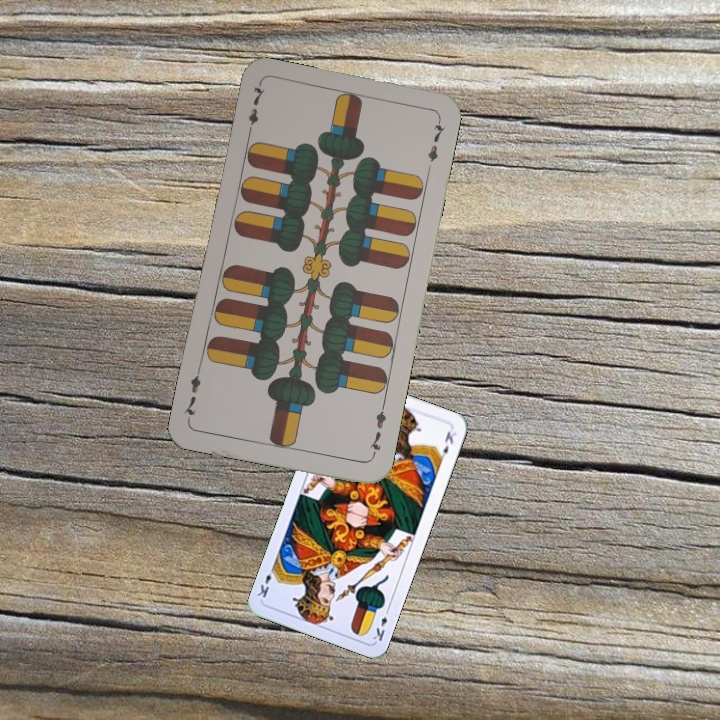E7: (243, 81, 268, 140), (365, 401, 389, 460)
EK: (369, 604, 392, 644)
